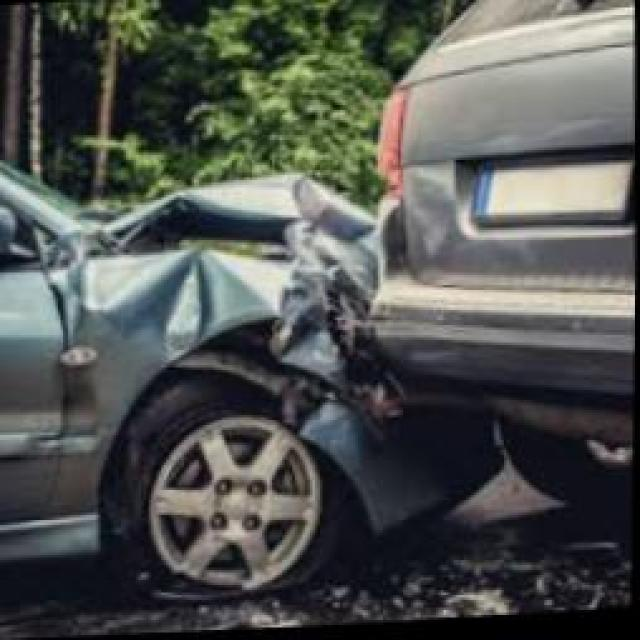Bonnet: (121, 188, 399, 287)
Bumper: (333, 378, 521, 521)
Fender: (68, 250, 299, 375)
